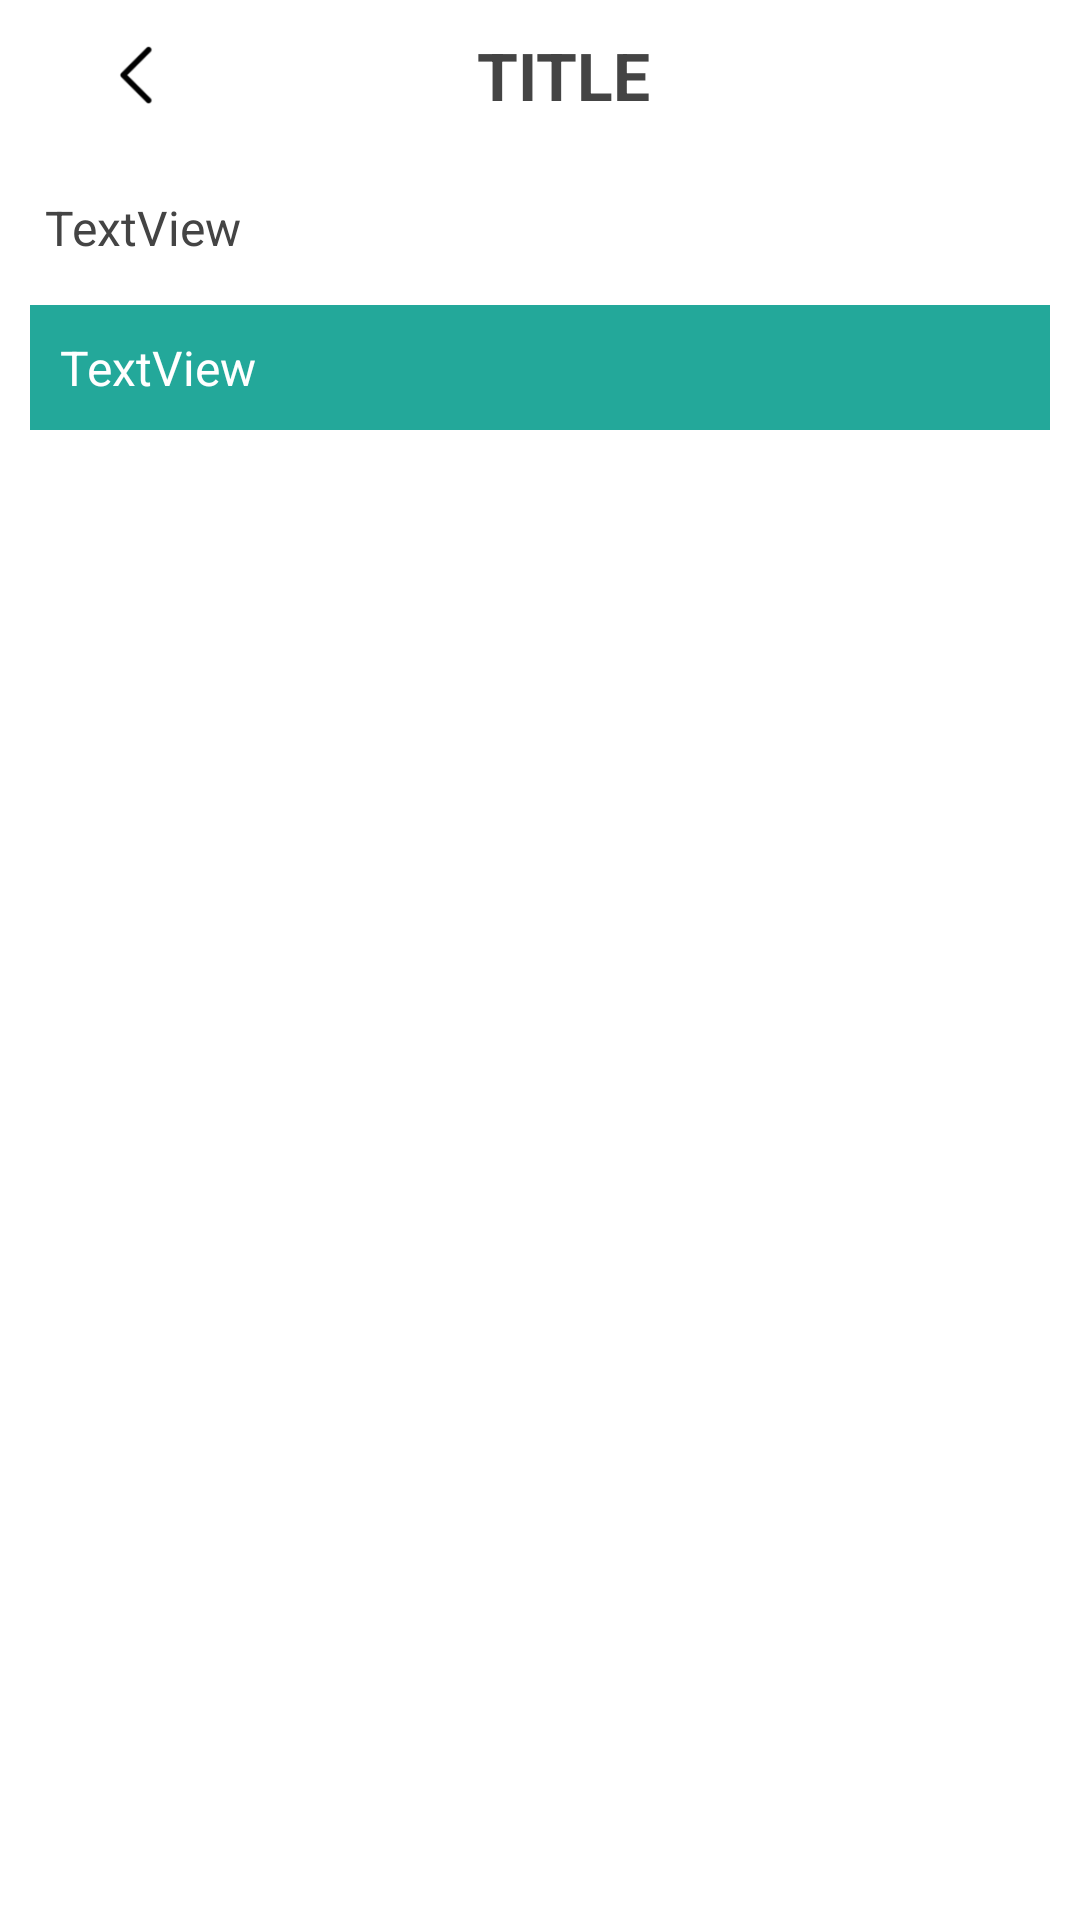

Locate icon controls on the screen. Image size 1080*1920, boxes as [x1=x1, y1=y1, x2=x2, y2=y2].
arrow left: [x1=120, y1=46, x2=152, y2=104]
